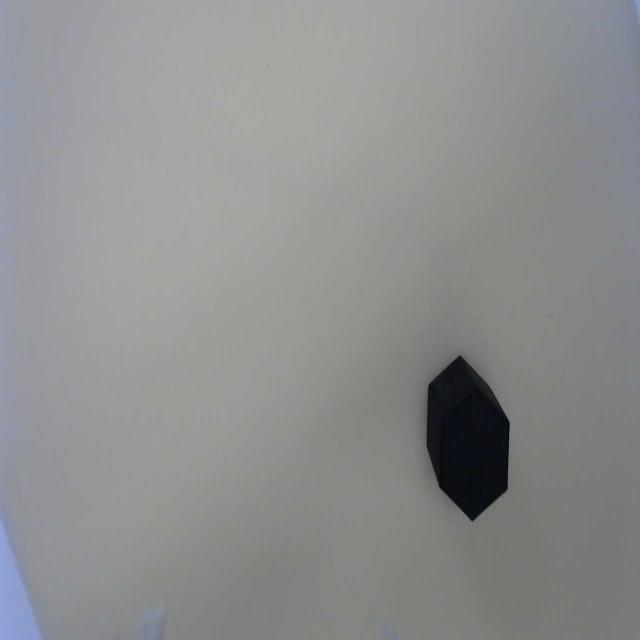hexagon: (439, 380, 510, 524)
